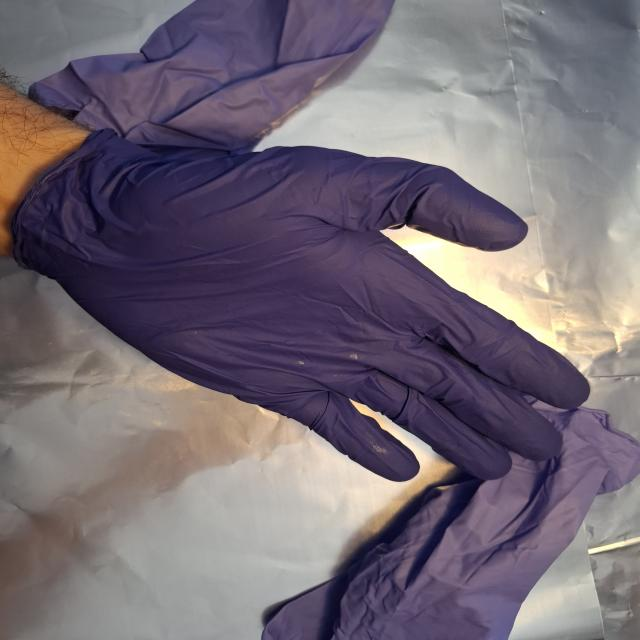glove_on: (9, 125, 596, 484)
